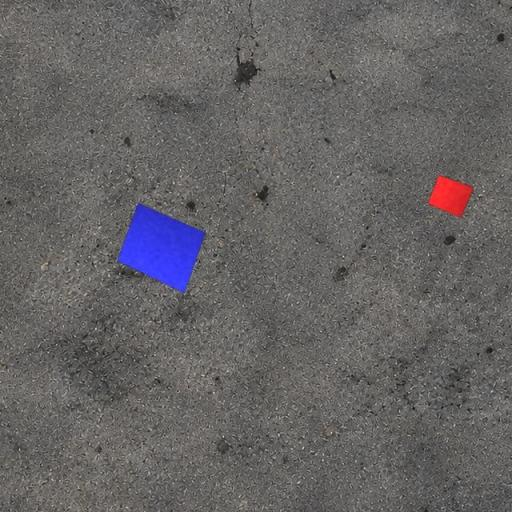BLUE_SQUARE: (117, 202, 206, 294)
RED_SQUARE: (428, 174, 474, 218)
